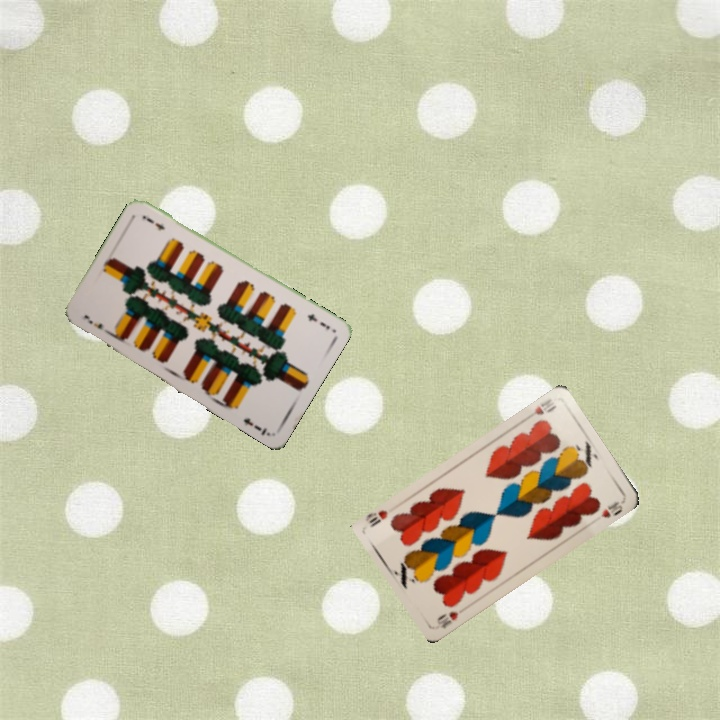E7: (80, 311, 113, 337), (303, 310, 332, 332)
H10: (521, 395, 559, 423), (432, 607, 461, 631)
